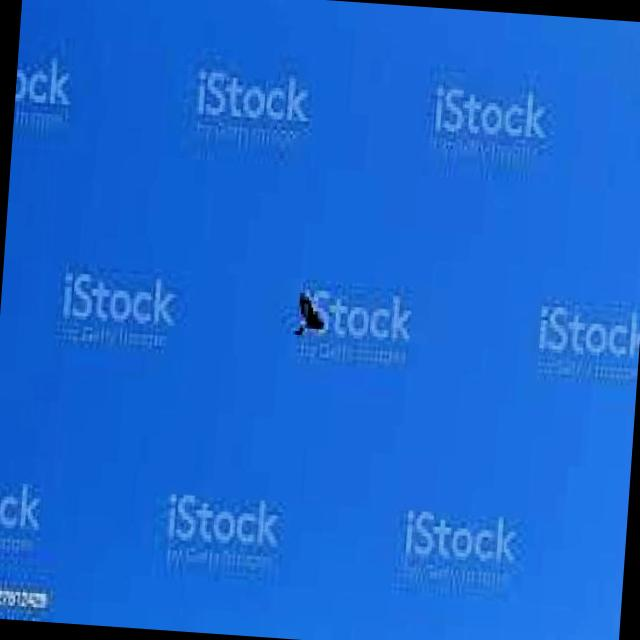bird: (290, 286, 328, 342)
